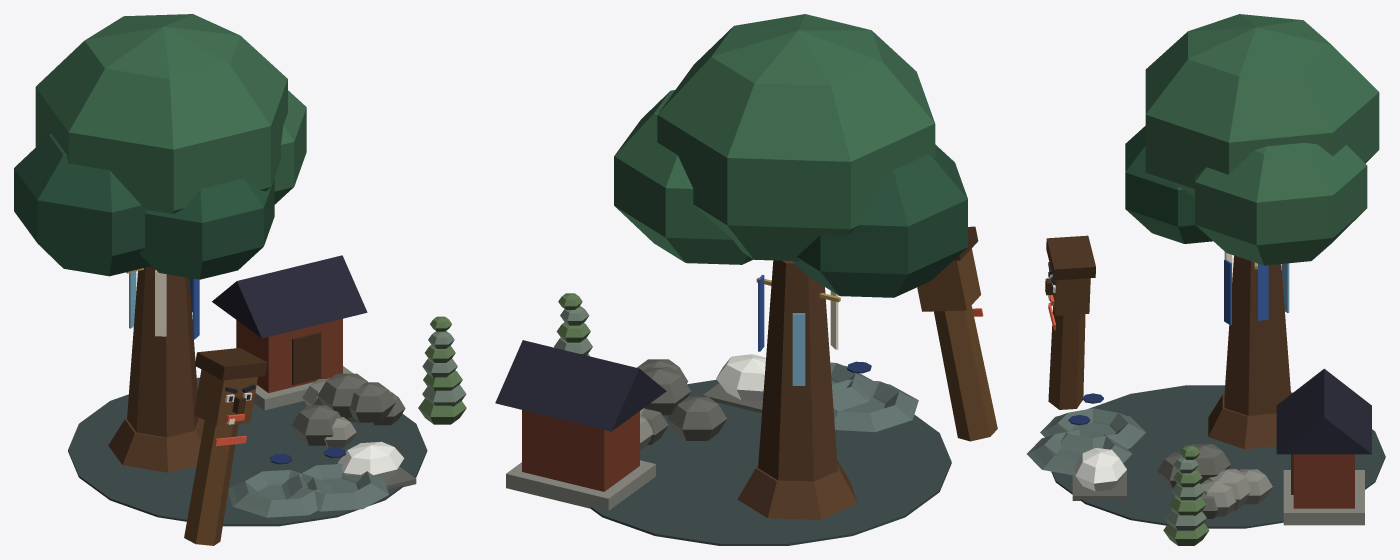
The model's file is prop_seonangdang_mulmagi.glb.
3 renders of one model, left to right at view 1: azimuth 30°, elevation 25°; view 2: azimuth 150°, elevation 25°; view 3: azimuth 270°, elevation 25°, orthographic. The views are drawn at different scales.
Visible parts, largest first — view 1: prop_seonangdang_mulmagi; view 2: prop_seonangdang_mulmagi; view 3: prop_seonangdang_mulmagi.
Part boxes in pixels (x1=…): prop_seonangdang_mulmagi: x1=14, y1=14, x2=466, y2=545; prop_seonangdang_mulmagi: x1=495, y1=14, x2=997, y2=545; prop_seonangdang_mulmagi: x1=1027, y1=14, x2=1385, y2=545.
Size of the model in its own units: 6.43 by 6.57 by 5.28.
